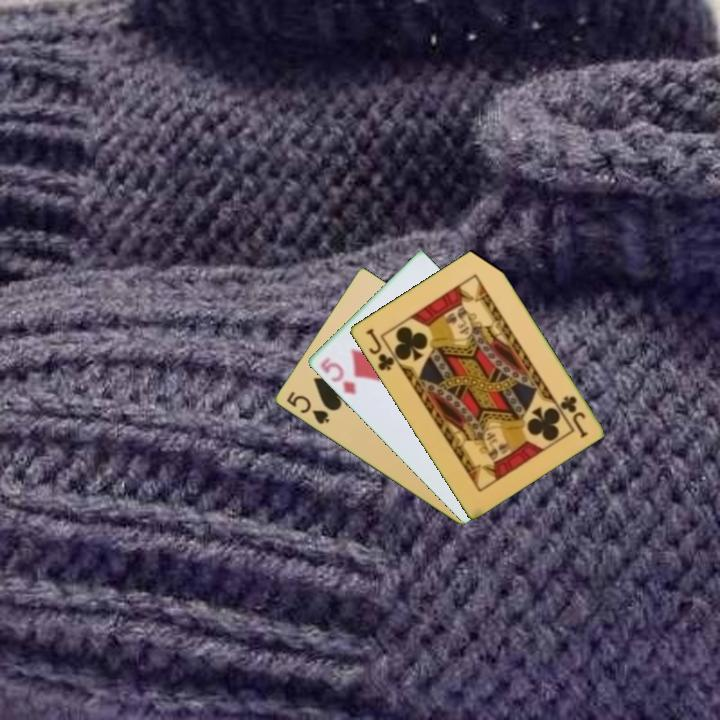5d: (317, 354, 358, 398)
5s: (283, 388, 332, 427)
Jc: (362, 325, 397, 374), (556, 392, 590, 441)
